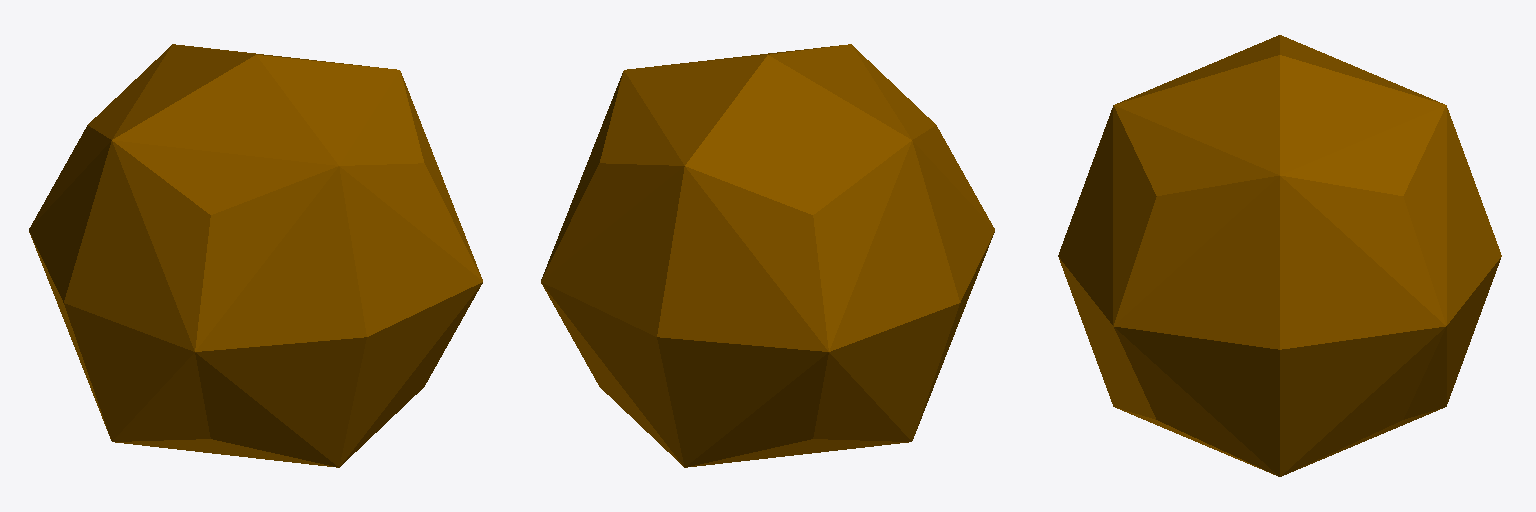
The picture shows the model from 3 angles: view 1: azimuth 30°, elevation 25°; view 2: azimuth 150°, elevation 25°; view 3: azimuth 270°, elevation 25°; orthographic projection.
Parts seen in each view (by area): view 1: cuboid; view 2: cuboid; view 3: cuboid.
Boxes of the visible parts, x1=… form: cuboid: x1=29, y1=44, x2=482, y2=467; cuboid: x1=541, y1=44, x2=994, y2=467; cuboid: x1=1058, y1=35, x2=1501, y2=476.
Bounding box in the file's own units: 0.375 × 0.375 × 0.375.
Materials: 1 (1 with a texture image).